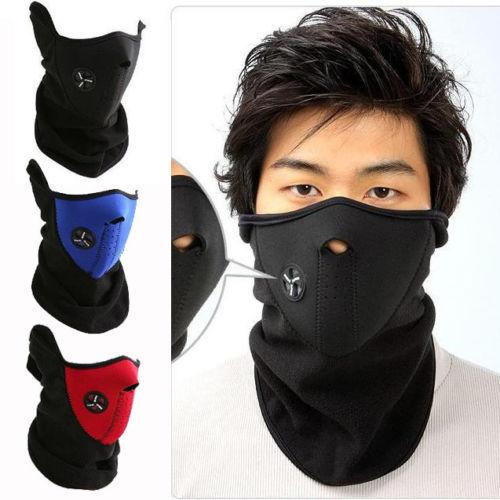Wearing Mask: (209, 4, 500, 492)
